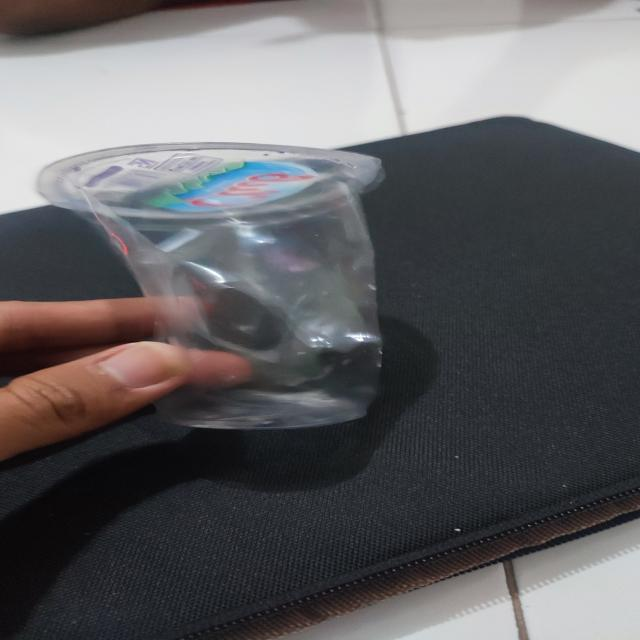air-gelas-rusak: (44, 137, 459, 441)
